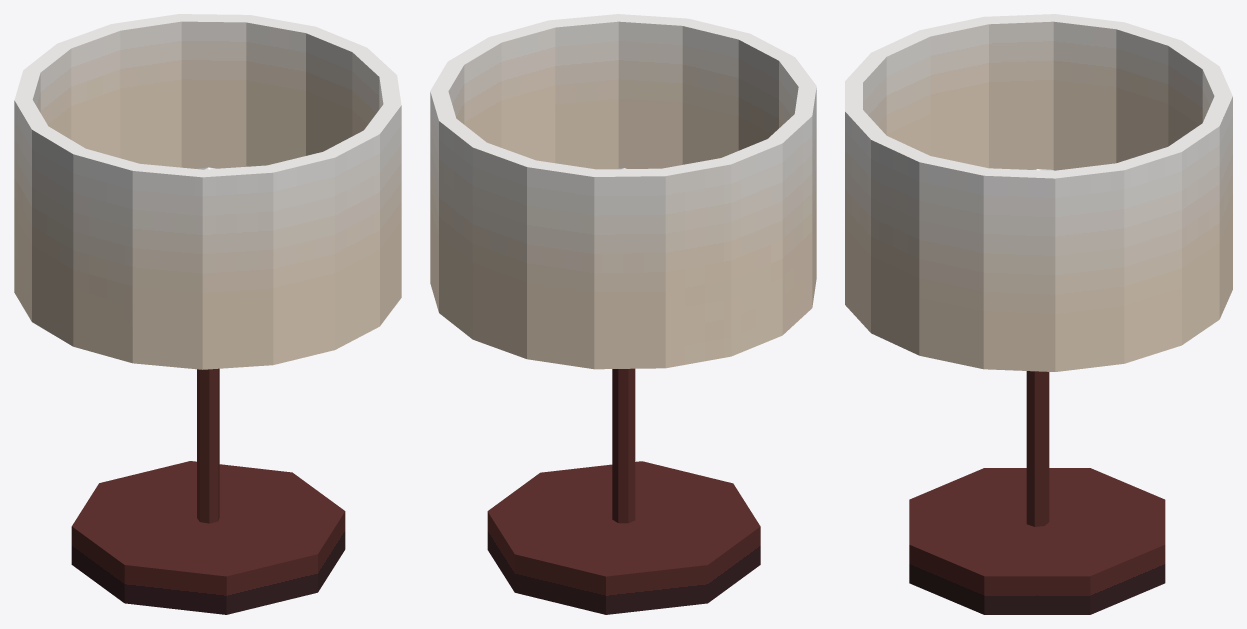
The model's file is old_lamp.gltf.
3 renders of one model, left to right at view 1: azimuth 30°, elevation 25°; view 2: azimuth 150°, elevation 25°; view 3: azimuth 270°, elevation 25°, orthographic.
Parts seen in each view (by area): view 1: cylinder; view 2: cylinder; view 3: cylinder.
Boxes of the visible parts, x1,y1,x2,y2 form: cylinder: [14, 14, 401, 614]; cylinder: [430, 14, 816, 614]; cylinder: [845, 14, 1232, 614].
Bounding box in the file's own units: 0.5698 × 0.75 × 0.5674.
Materials: 1 (1 with a texture image).
